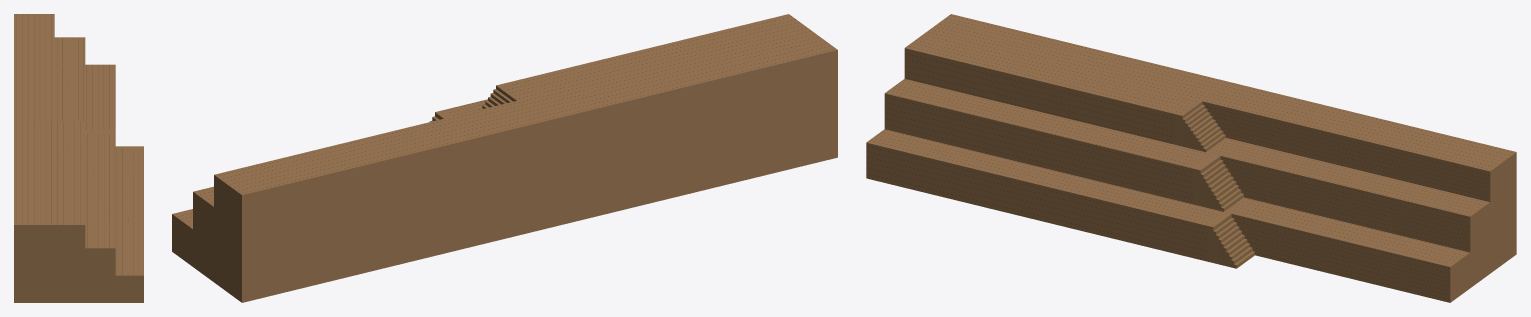
3 renders of one model, left to right at view 1: azimuth 30°, elevation 25°; view 2: azimuth 150°, elevation 25°; view 3: azimuth 270°, elevation 25°, orthographic. The views are drawn at different scales.
Parts seen in each view (by area): view 1: terrace; view 2: terrace; view 3: terrace.
Boxes of the visible parts, x1,y1,x2,y2 form: terrace: (14,14,143,302); terrace: (172,14,837,302); terrace: (866,14,1516,302).
Bounding box in the file's own units: 3.37 × 0.8601 × 4.96.
2 materials, 2 textured.
